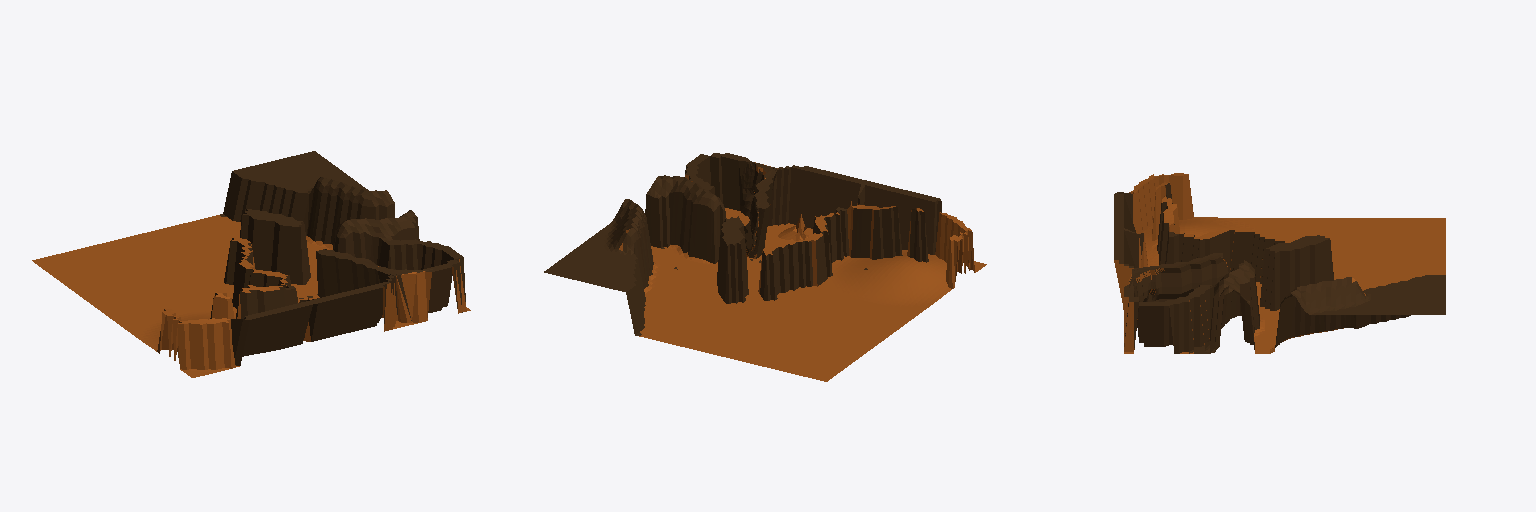
The model's file is Canyon1.obj.
3 renders of one model, left to right at view 1: azimuth 30°, elevation 25°; view 2: azimuth 150°, elevation 25°; view 3: azimuth 270°, elevation 25°, orthographic.
Parts seen in each view (by area): view 1: Plane; view 2: Plane; view 3: Plane.
Boxes of the visible parts, box(x1,y1,x2,y2) form: Plane: box(32, 151, 470, 377); Plane: box(544, 153, 986, 381); Plane: box(1114, 173, 1445, 353).
Bounding box in the file's own units: 10167 × 2113 × 10313.